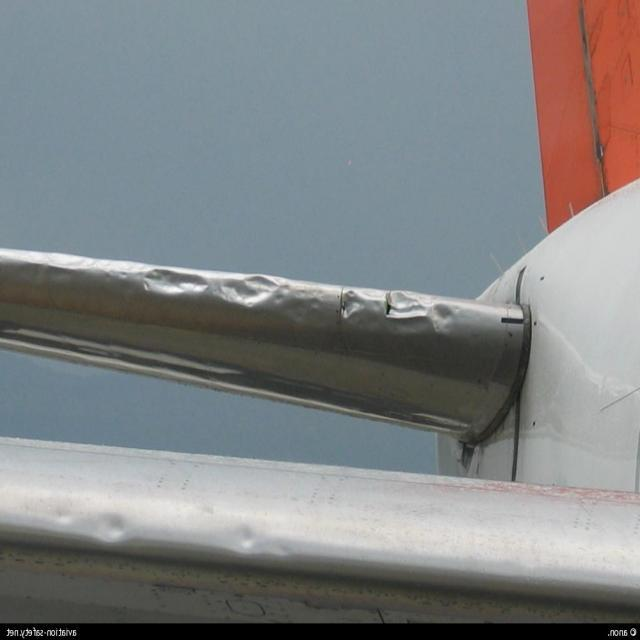dent: (218, 274, 289, 313), (382, 294, 432, 341), (143, 267, 213, 300), (91, 506, 134, 552), (429, 295, 466, 345), (333, 291, 373, 322), (239, 524, 262, 554)
